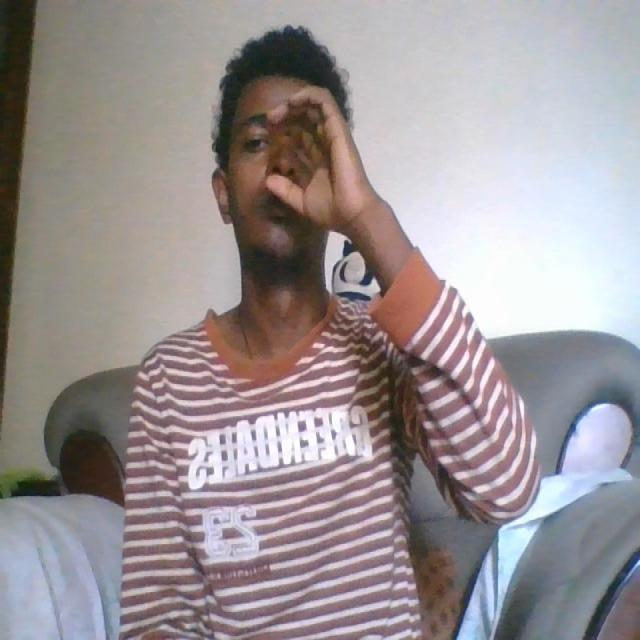metetat: (254, 84, 369, 238)
